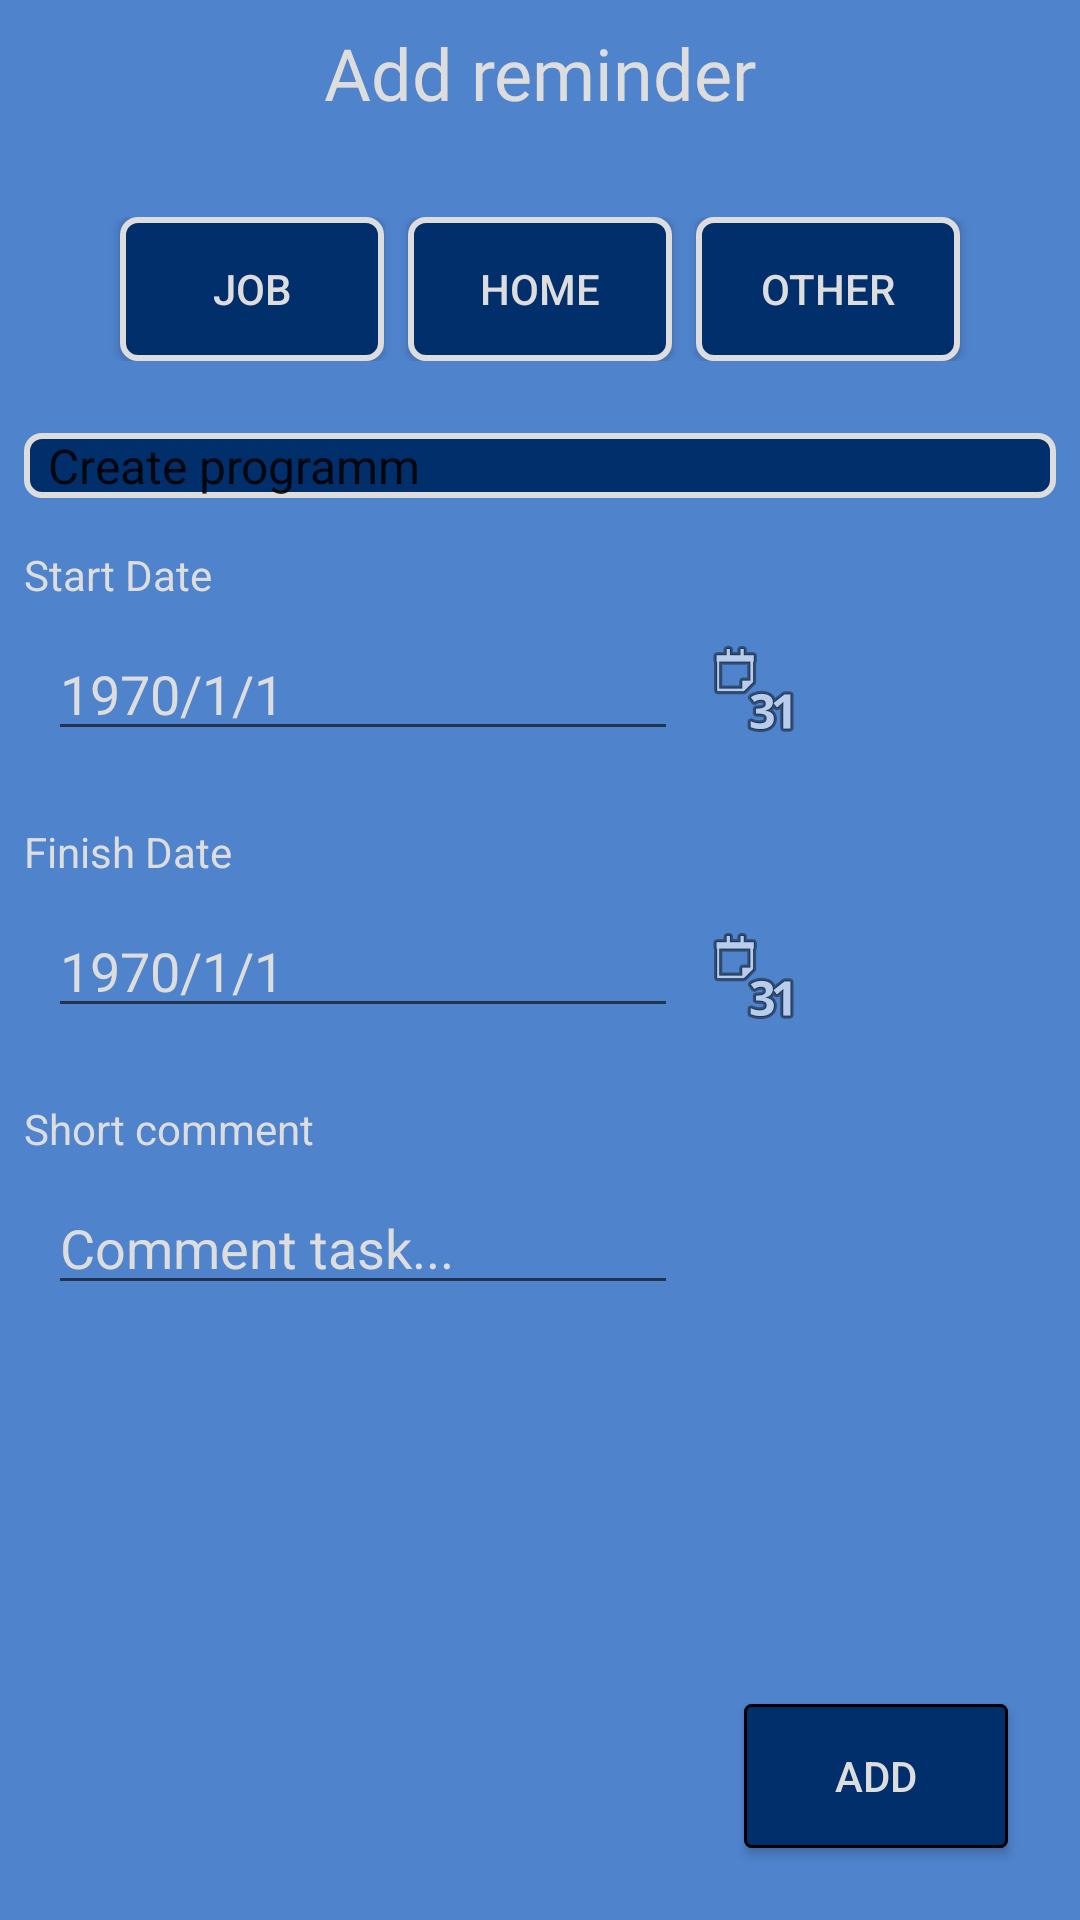

Screen size 1080px×1920px. Icon name, then its center in pixels as (x,y):
month: (753,689), (753,976)
